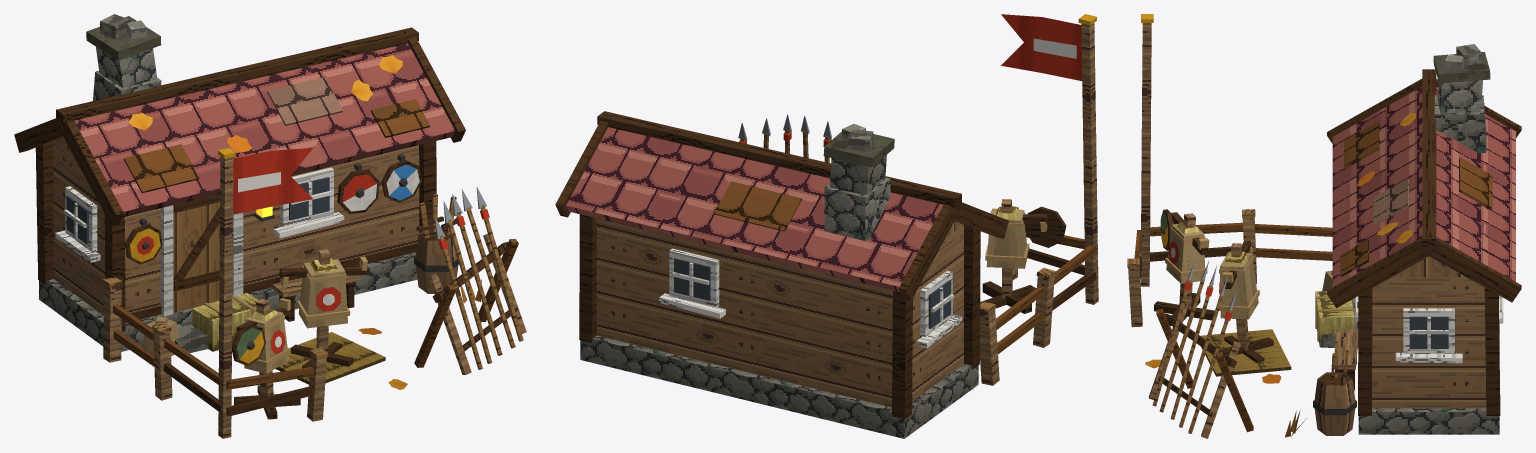
File: barracks.glb
3 views of the same model, side by side, from view 1: azimuth 30°, elevation 25°; view 2: azimuth 150°, elevation 25°; view 3: azimuth 270°, elevation 25° (orthographic). The views are drawn at different scales.
Visible parts, largest first — view 1: barracks, sway_dummy, sway_flag, sway_dummy_2; view 2: barracks, sway_flag, sway_dummy_2; view 3: barracks, sway_dummy_2, sway_dummy.
Part boxes in pixels (x1,y1,x2,y2): barracks: (14,14,526,438); sway_dummy: (279,249,368,353); sway_flag: (233,147,313,214); sway_dummy_2: (232,298,290,397); barracks: (555,14,1098,438); sway_flag: (1001,14,1082,80); sway_dummy_2: (985,199,1066,297); barracks: (1127,14,1521,438); sway_dummy_2: (1160,209,1209,308); sway_dummy: (1219,240,1259,349).
Size of the model in its own units: 5.6 by 4.29 by 5.65.
35 materials, 24 textured.
